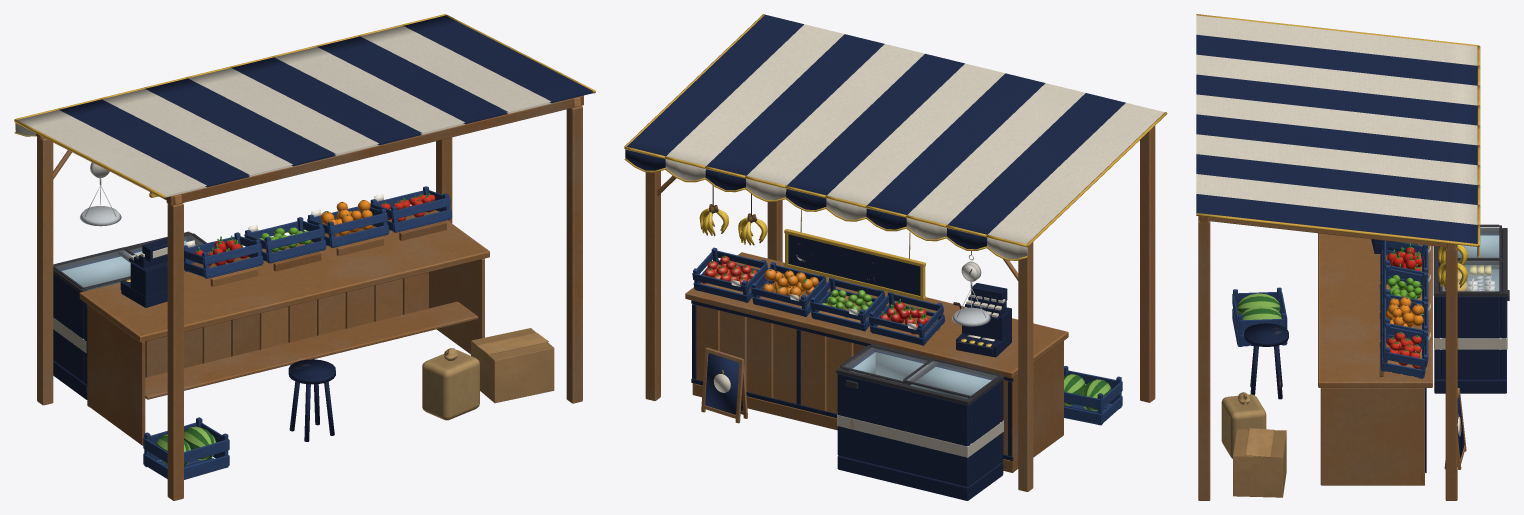
The model's file is Era2_Banca.fbx.
The picture shows the model from 3 angles, left to right: view 1: azimuth 30°, elevation 25°; view 2: azimuth 150°, elevation 25°; view 3: azimuth 270°, elevation 25°; orthographic projection. The views are drawn at different scales.
Parts seen in each view (by area): view 1: ERA2_Stall, ERA2_Counter, ERA2_Stock, ERA2_Produce, ERA2_Dairy, ERA2_Register, ERA2_DairyGlass; view 2: ERA2_Stall, ERA2_Counter, ERA2_Dairy, ERA2_Produce, ERA2_Register, ERA2_DairyGlass, ERA2_Board, ERA2_Stock; view 3: ERA2_Stall, ERA2_Counter, ERA2_Dairy, ERA2_Stock, ERA2_Produce, ERA2_DairyGlass, ERA2_Board.
Part boxes in pixels (box(x1,y1,x2,y2)): ERA2_Stall: box(14, 14, 595, 500); ERA2_Counter: box(79, 220, 489, 445); ERA2_Stock: box(143, 328, 554, 479); ERA2_Produce: box(184, 186, 452, 286); ERA2_Dairy: box(53, 231, 211, 399); ERA2_Register: box(79, 162, 167, 307); ERA2_DairyGlass: box(55, 235, 210, 289); ERA2_Stall: box(624, 14, 1167, 491); ERA2_Counter: box(685, 252, 1068, 472); ERA2_Dairy: box(836, 343, 1004, 500); ERA2_Produce: box(692, 185, 944, 345); ERA2_Register: box(952, 251, 1011, 357); ERA2_DairyGlass: box(843, 347, 996, 395); ERA2_Board: box(701, 347, 747, 423); ERA2_Stock: box(1064, 366, 1122, 425); ERA2_Stall: box(1196, 14, 1480, 500); ERA2_Counter: box(1318, 233, 1432, 485); ERA2_Dairy: box(1433, 224, 1509, 393); ERA2_Stock: box(1221, 287, 1288, 497); ERA2_Produce: box(1379, 240, 1467, 378); ERA2_DairyGlass: box(1442, 226, 1501, 292); ERA2_Board: box(1444, 388, 1466, 469).
Bounding box in the file's own units: 3.58 × 2.45 × 2.37.
2 materials, 1 textured.
